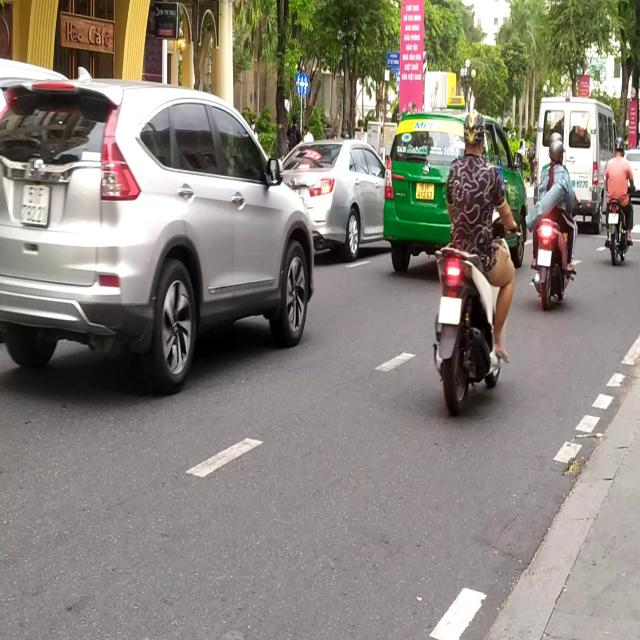bien_trang: (20, 178, 52, 233)
bien_vang: (416, 174, 434, 210)
